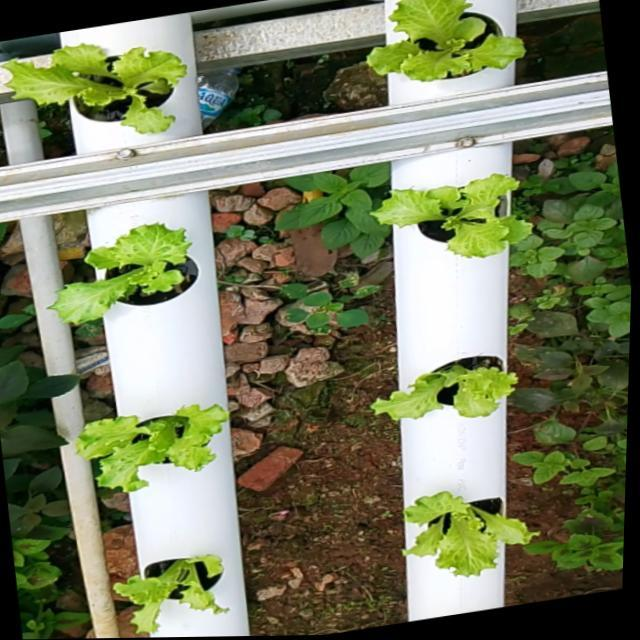Baby: (363, 0, 521, 105), (0, 49, 182, 140), (48, 221, 199, 323), (73, 403, 229, 492), (365, 176, 528, 260), (402, 491, 538, 576), (370, 354, 518, 420), (112, 553, 227, 631)
